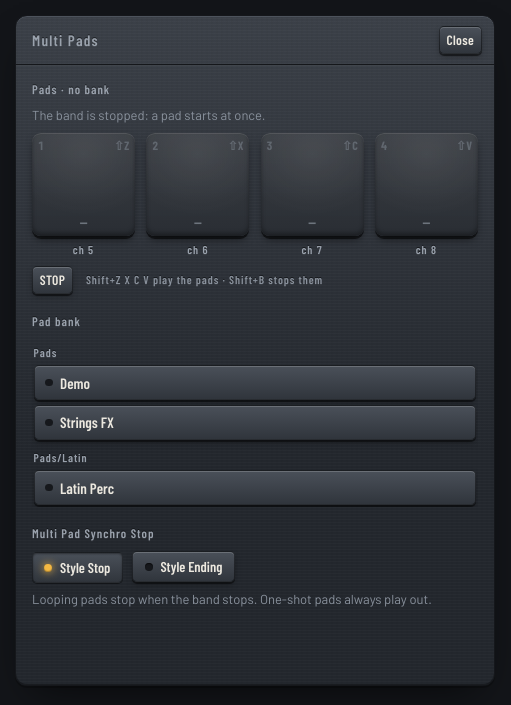
Scenario: Multi Pad drawer › lists the banks by folder; loading one names and lights its pads
Click the option "Latin Perc" at (87, 488), box [34,470,476,505]
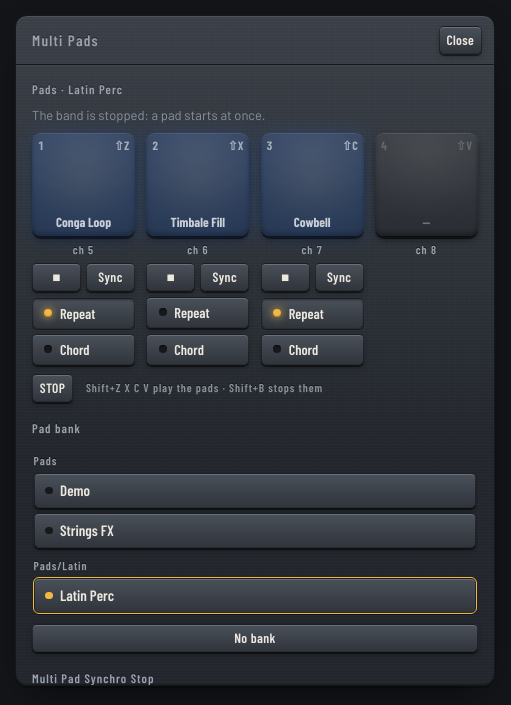
Result: the button "1 ⇧Z Conga Loop" is shown at [32,133,135,236]
